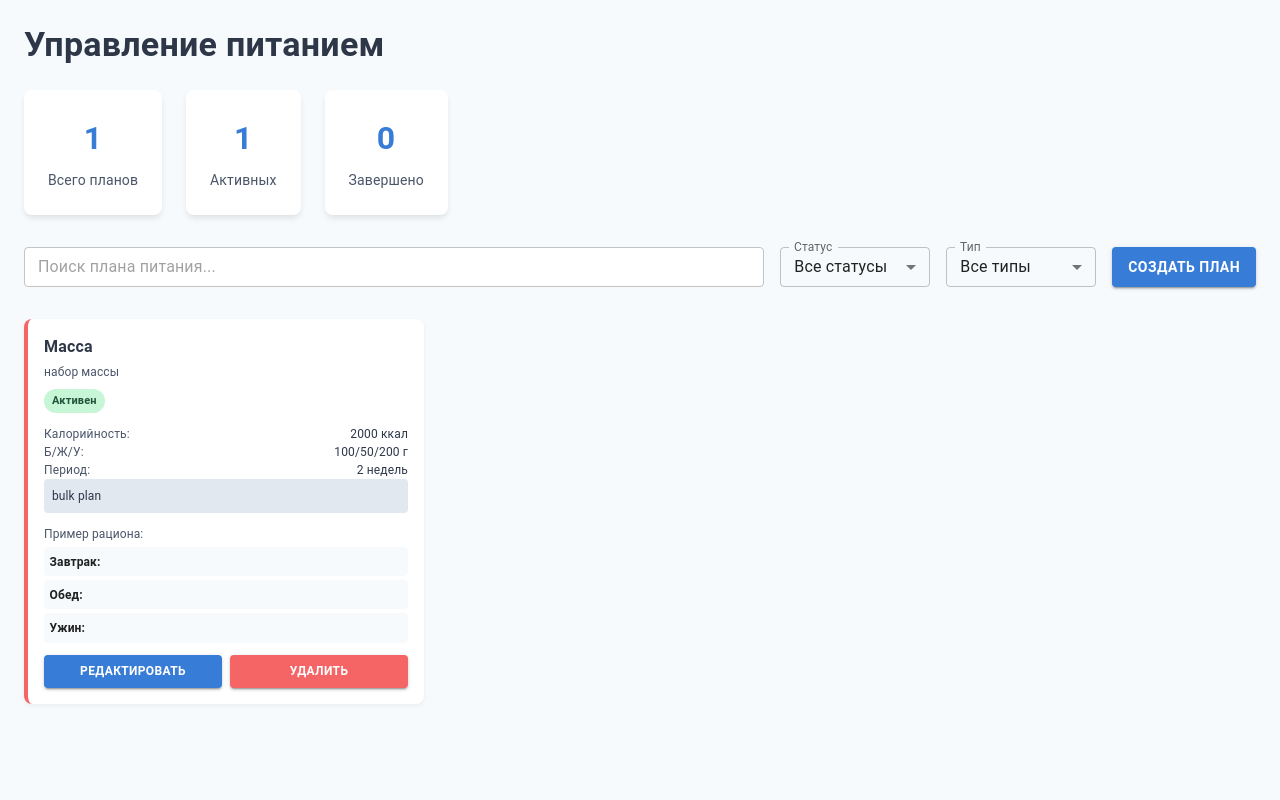
Test: NutritionPage › фильтрует по поиску
Expected: the heading "Масса" is shown, top-left (44, 337), bottom-right (93, 356)
Type "не существует" into the field with placeholder "Поиск плана питания..." at (394, 267), box top-left (24, 247), bottom-right (764, 287)
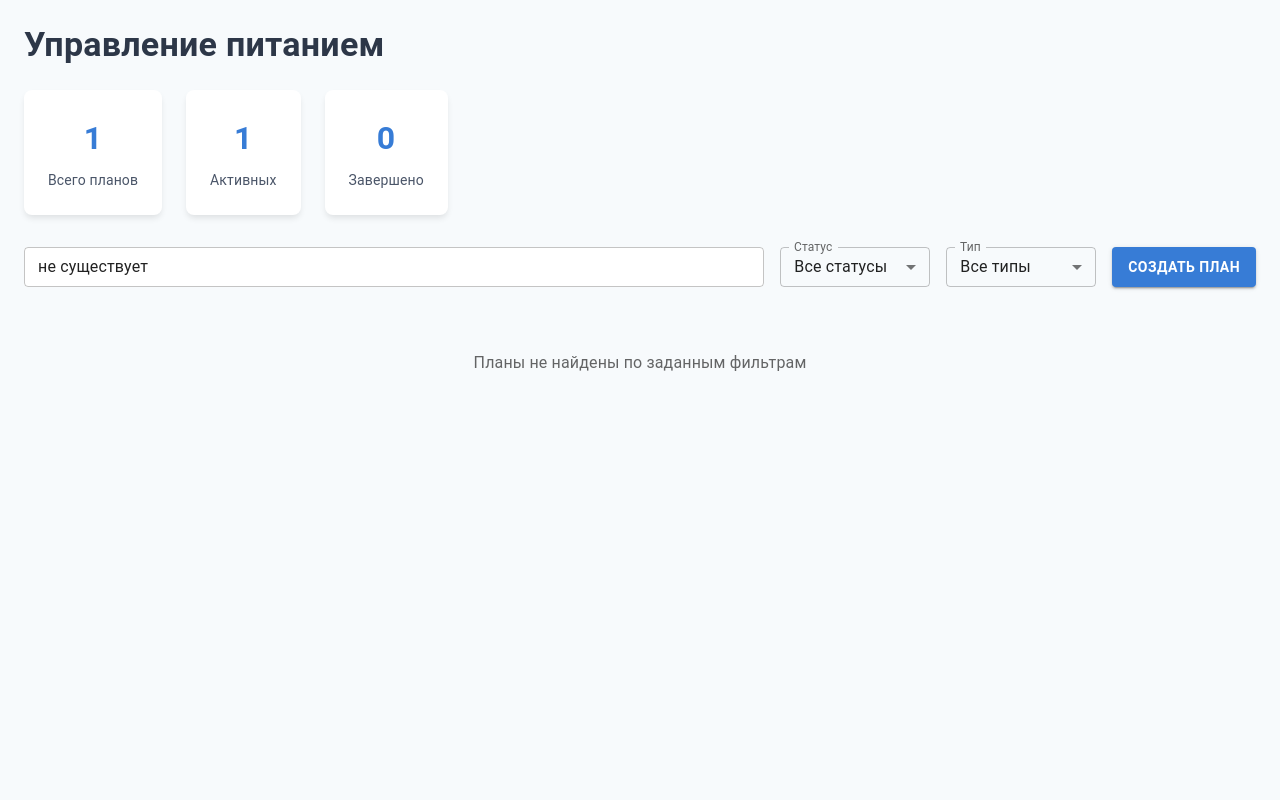
Result: the text "Планы не найдены по заданным фильтрам" is shown at top-left (474, 353), bottom-right (806, 372)
